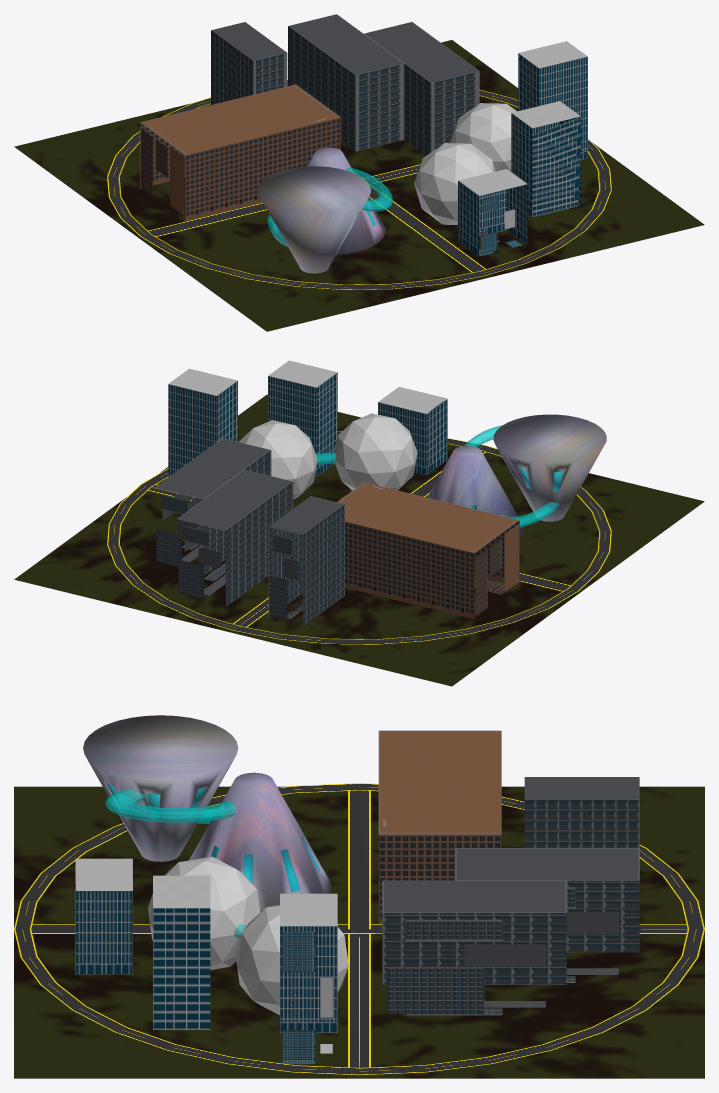
File: stadt.fbx
3 views of the same model, one above another, from view 1: azimuth 30°, elevation 25°; view 2: azimuth 150°, elevation 25°; view 3: azimuth 270°, elevation 25° (orthographic). The views are drawn at different scales.
Visible parts, largest first — view 1: Floor, Cube.003, Cube.001, Building003, Cube.004, Building005, StreetCircle1, Cube.005, Cube.002, Cube, Street1, Street2; view 2: Floor, Cube.001, Cube.003, Building003, Building005, Cube.002, StreetCircle1, Cube, Cube.004, Cube.005, Street1, Street2; view 3: Floor, Cube.003, Building003, Cube.001, StreetCircle1, Cube, Cube.004, Building005, Cube.002, Cube.005, Street2, Street1.
Boxes of the visible parts, x1,y1,x2,y2 form: Floor: [14, 40, 704, 331]; Cube.003: [288, 14, 479, 155]; Cube.001: [140, 84, 340, 221]; Building003: [257, 147, 392, 273]; Cube.004: [511, 101, 580, 217]; Building005: [414, 103, 516, 224]; StreetCircle1: [107, 81, 611, 289]; Cube.005: [458, 169, 527, 256]; Cube.002: [211, 22, 287, 104]; Cube: [518, 41, 587, 159]; Street1: [355, 173, 485, 272]; Street2: [148, 164, 420, 236]; Floor: [14, 394, 704, 686]; Cube.001: [337, 482, 519, 619]; Cube.003: [155, 438, 293, 606]; Building003: [427, 414, 606, 537]; Building005: [239, 413, 417, 498]; Cube.002: [268, 496, 344, 626]; StreetCircle1: [107, 431, 611, 644]; Cube: [168, 368, 237, 477]; Cube.004: [268, 360, 337, 476]; Cube.005: [378, 387, 447, 474]; Street1: [233, 450, 485, 627]; Street2: [148, 484, 570, 591]; Floor: [14, 786, 704, 1078]; Cube.003: [382, 848, 639, 1015]; Building003: [83, 715, 331, 912]; Cube.001: [378, 730, 501, 924]; StreetCircle1: [14, 783, 704, 1075]; Cube: [280, 893, 337, 1063]; Cube.004: [153, 875, 210, 1029]; Building005: [148, 856, 348, 1014]; Cube.002: [524, 777, 639, 847]; Cube.005: [75, 858, 132, 974]; Street2: [348, 790, 370, 1067]; Street1: [31, 924, 687, 933].
Bounding box in the file's own units: 18000 × 4004 × 18000.
